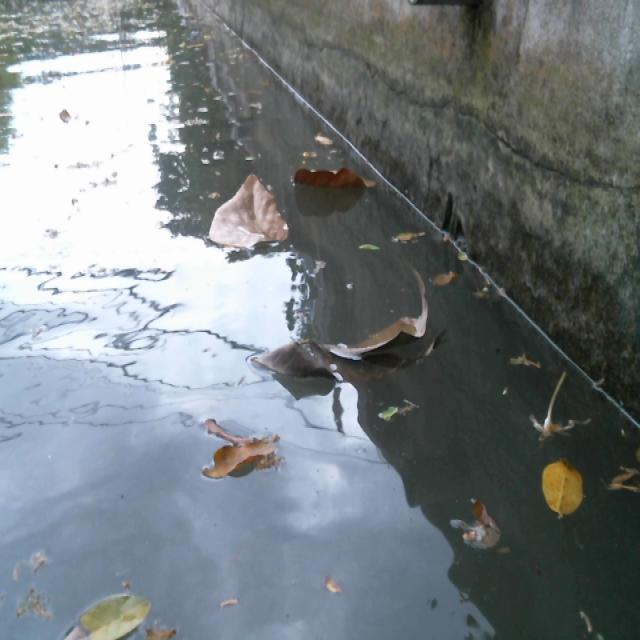Big-leaf: (255, 270, 436, 396), (200, 167, 301, 272), (192, 410, 291, 496), (285, 168, 375, 203)
Small-leaf: (64, 584, 152, 640), (446, 496, 512, 561), (543, 452, 590, 517), (508, 341, 555, 378), (315, 122, 346, 156), (422, 266, 461, 292), (390, 223, 435, 243), (352, 235, 386, 261)
